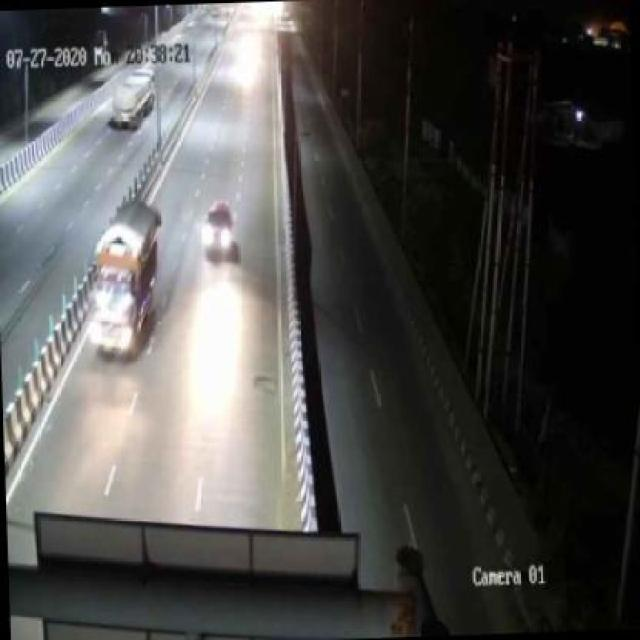car: (198, 197, 244, 258)
